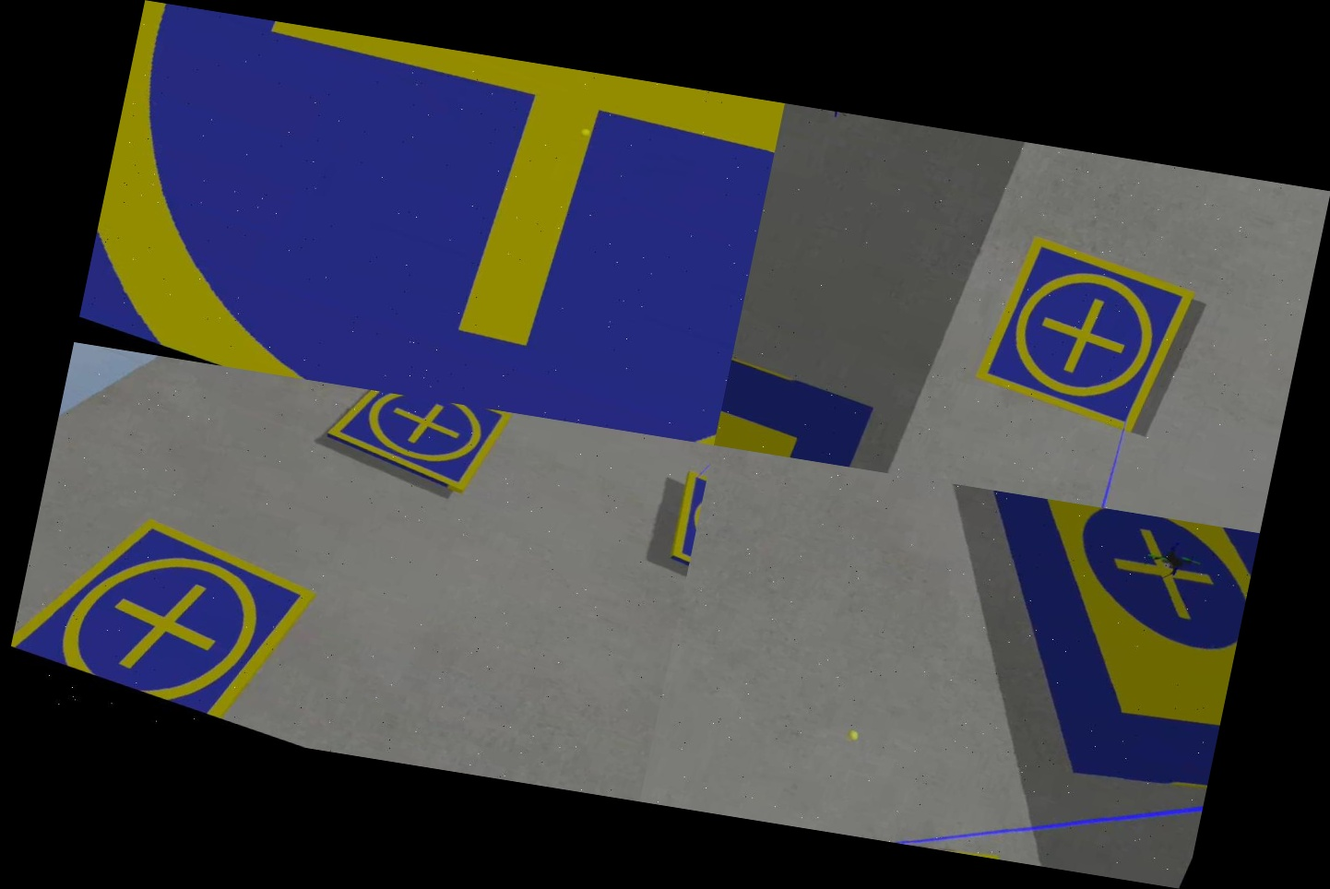large_base: (831, 474, 1259, 817)
small_base: (74, 0, 785, 445), (1, 487, 332, 738), (960, 226, 1210, 444), (760, 778, 1083, 871), (314, 384, 513, 503), (639, 465, 708, 599)
